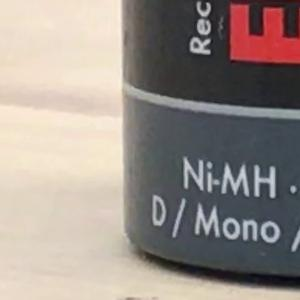keyword: (174, 156, 281, 200)
